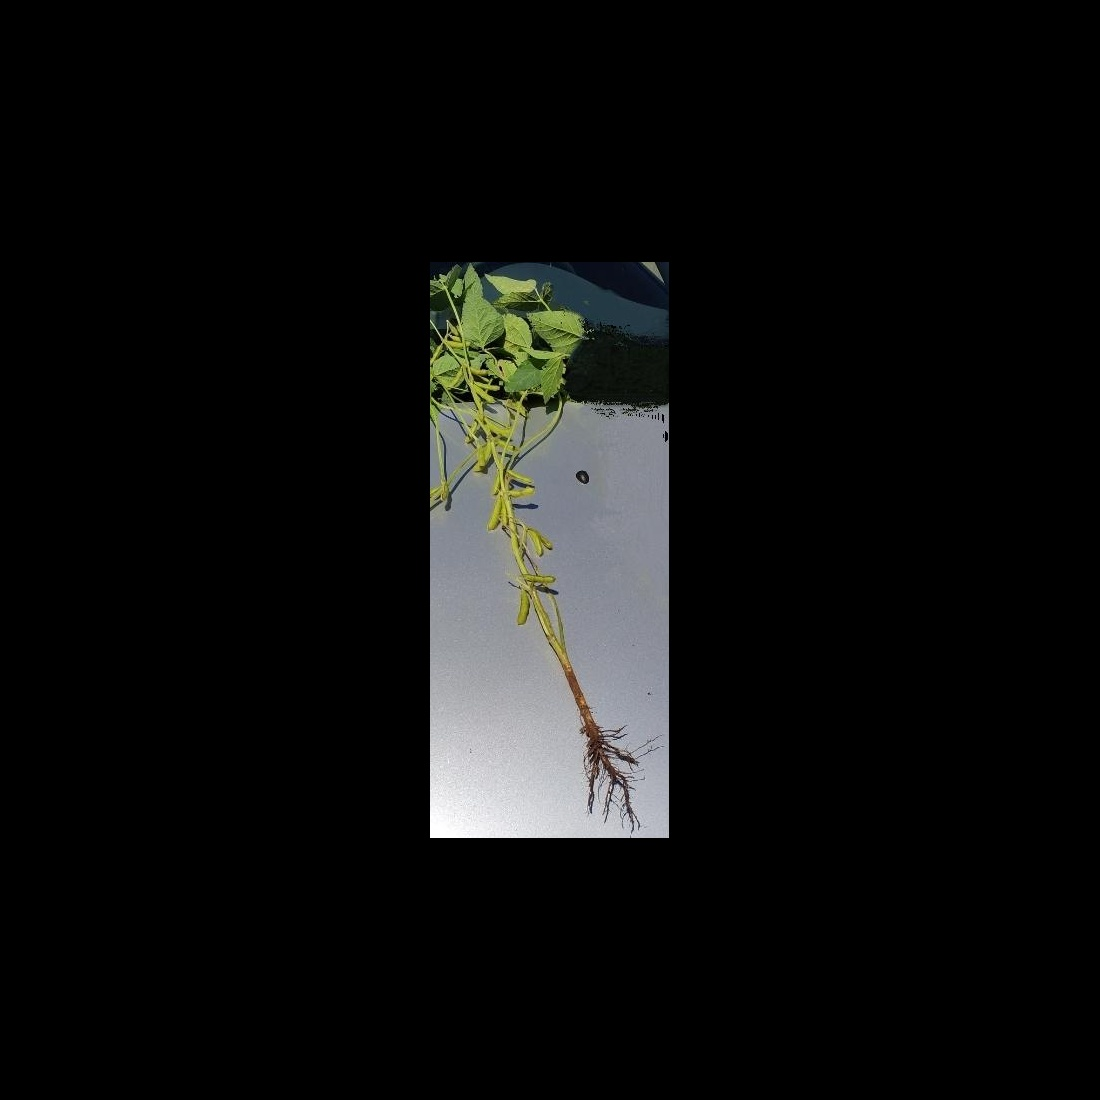pod: (525, 527, 546, 558), (486, 497, 502, 535), (517, 585, 531, 627), (474, 385, 498, 407), (499, 470, 537, 484), (501, 488, 537, 498), (472, 380, 503, 392), (522, 575, 559, 584)
soy: (438, 292, 643, 792)
